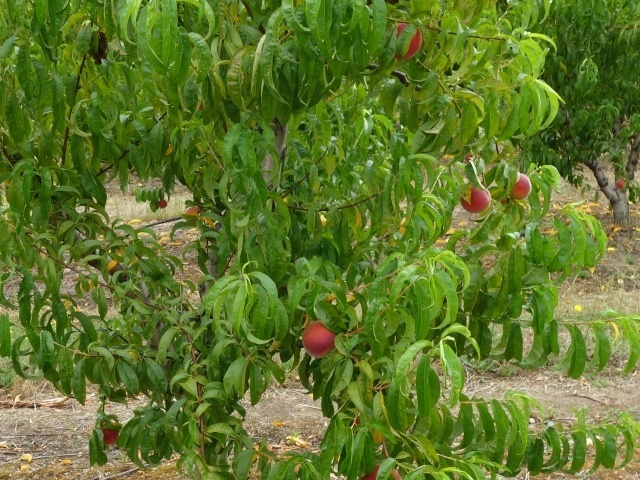peach: (387, 16, 425, 62), (300, 316, 340, 359), (456, 180, 491, 216), (503, 170, 535, 202), (96, 422, 121, 446)
